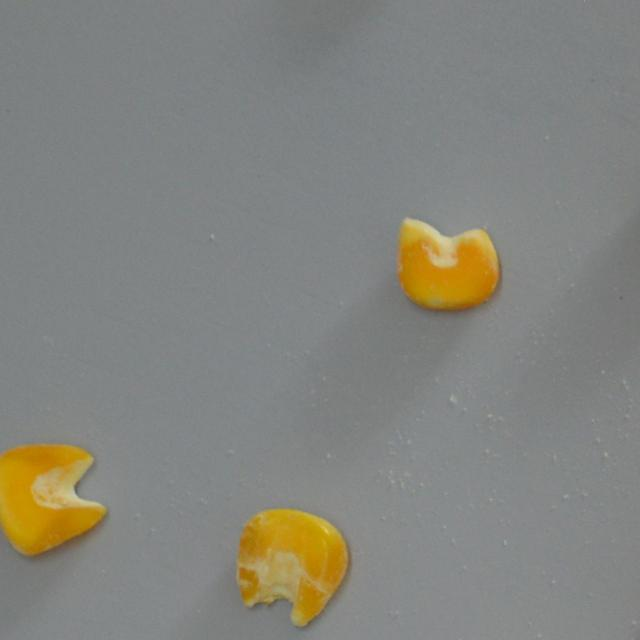no_canjicado: (0, 438, 105, 559)
pelicula: (237, 508, 352, 628), (396, 217, 500, 311)
